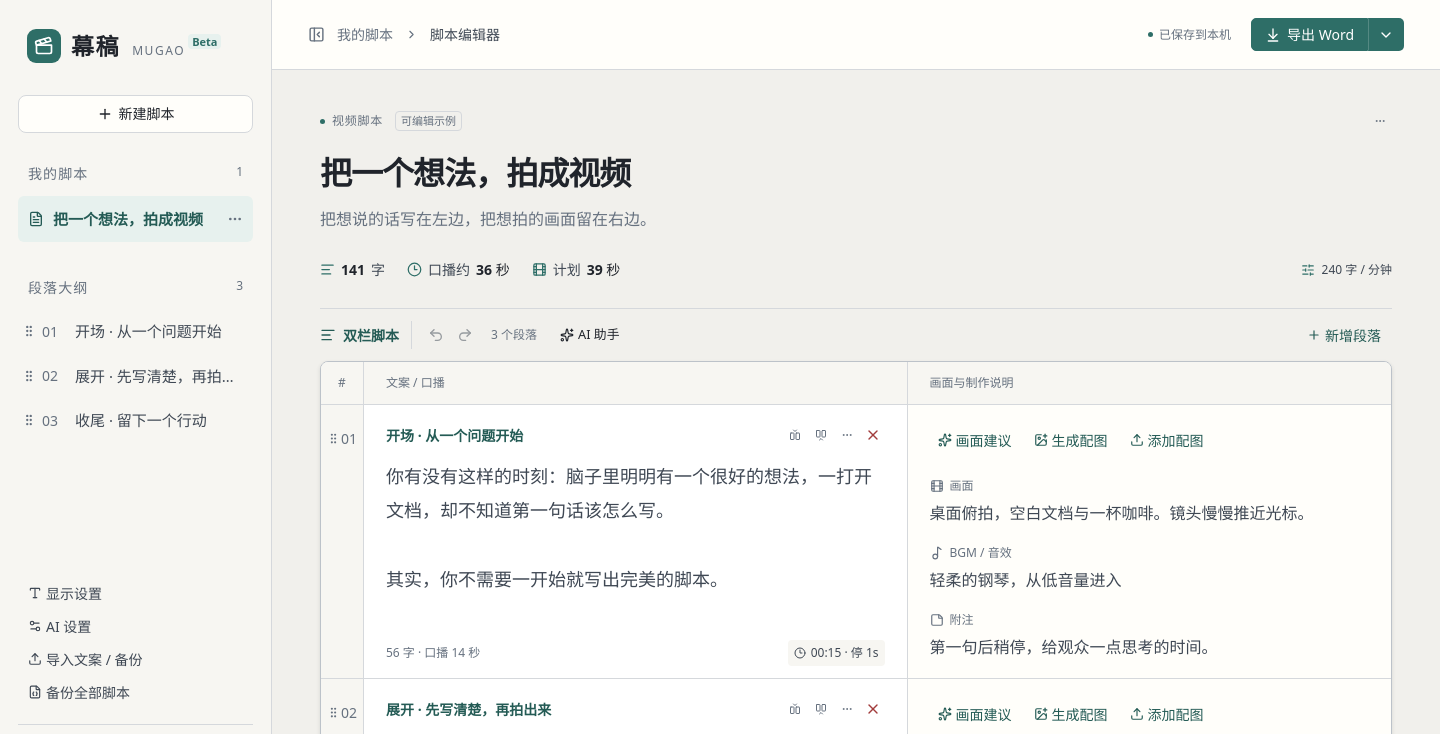
Scenario: 编辑器实际组件流程（非浏览器视觉测试） › 新建、中文输入法组合、光标分段与撤销可组合使用
Expected: the button with class "save-status" reads "已保存到本机", [1148,18,1231,51]
Click the button "新建脚本" at (136, 114), box [18,94,253,132]
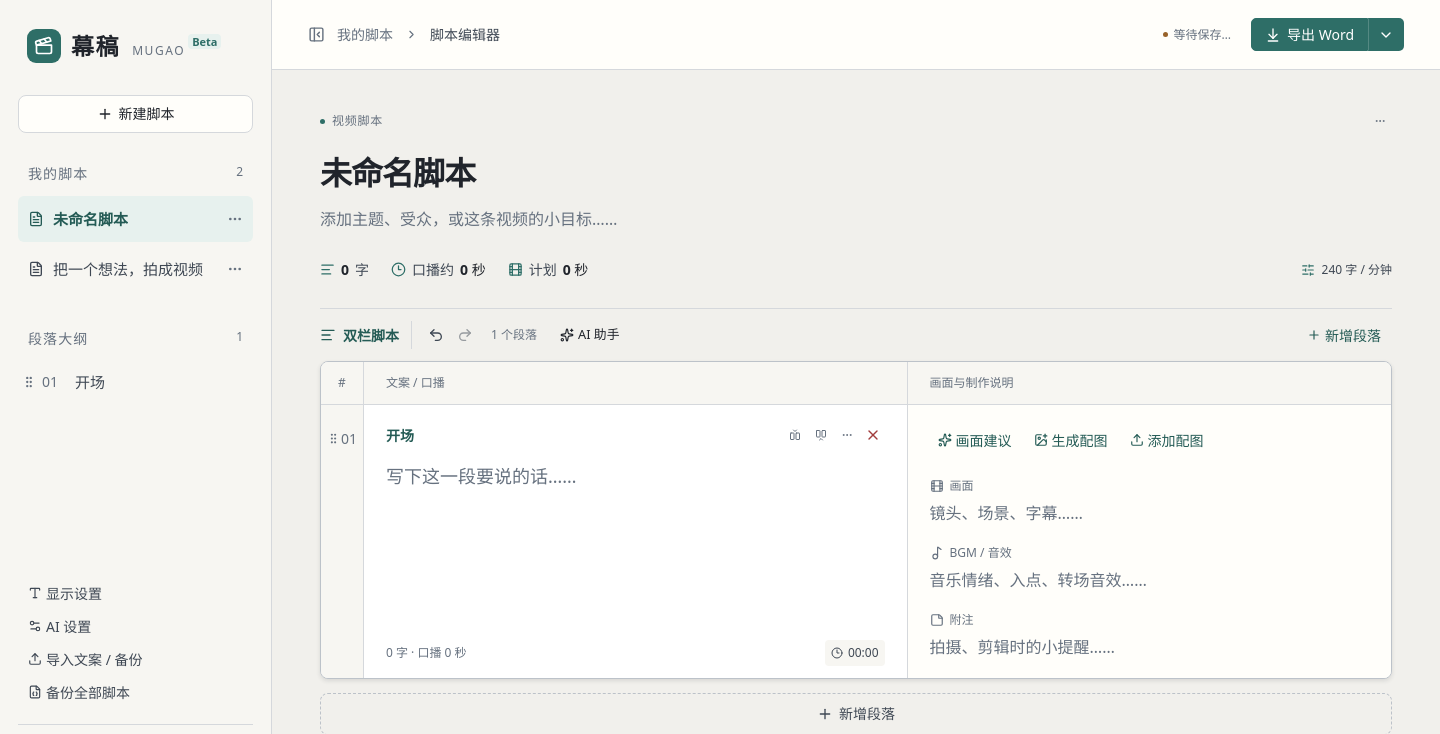
Type "你好世界" into the text box named "第1段文案" at (635, 542), box [386,459,885,626]
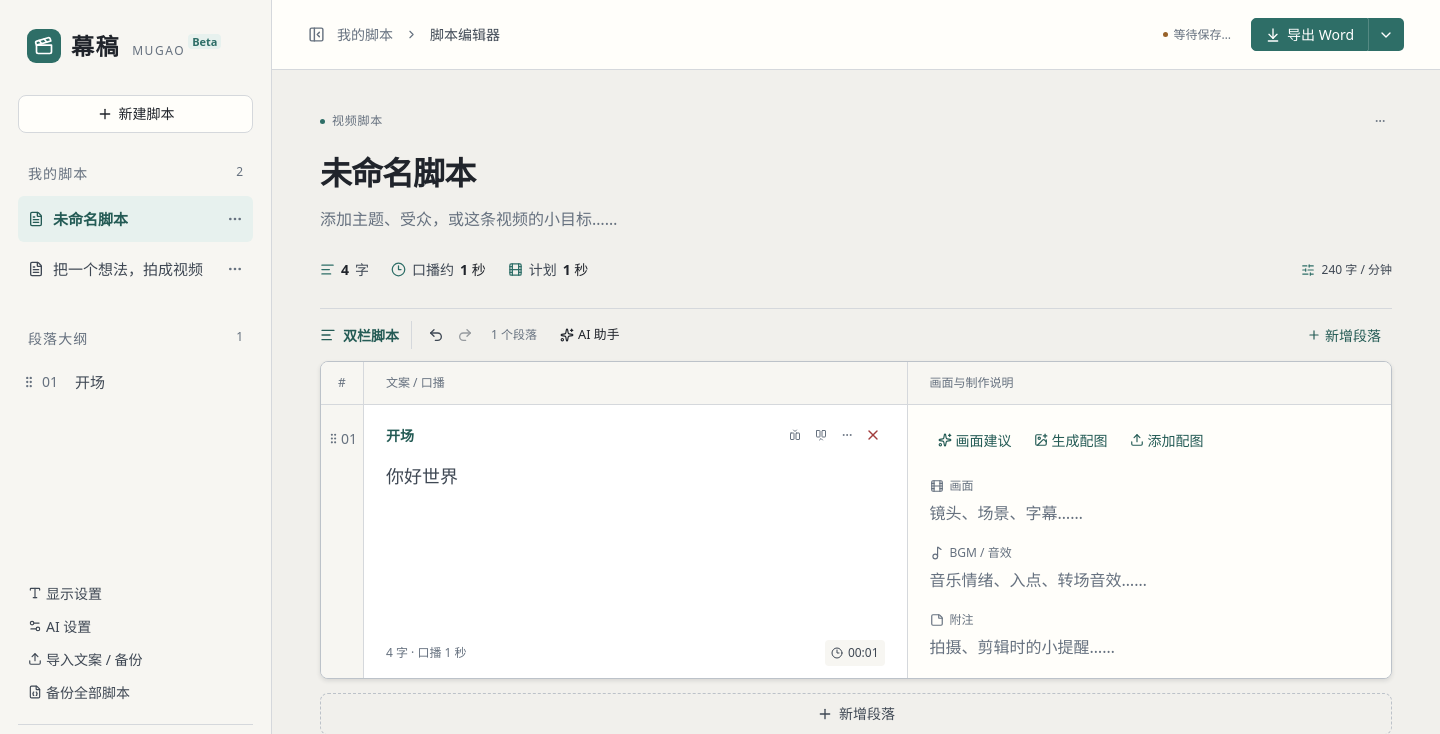
Press z in the text box named "第1段文案", box [386,459,885,626]
Press Enter in the text box named "第1段文案", box [386,459,885,626]
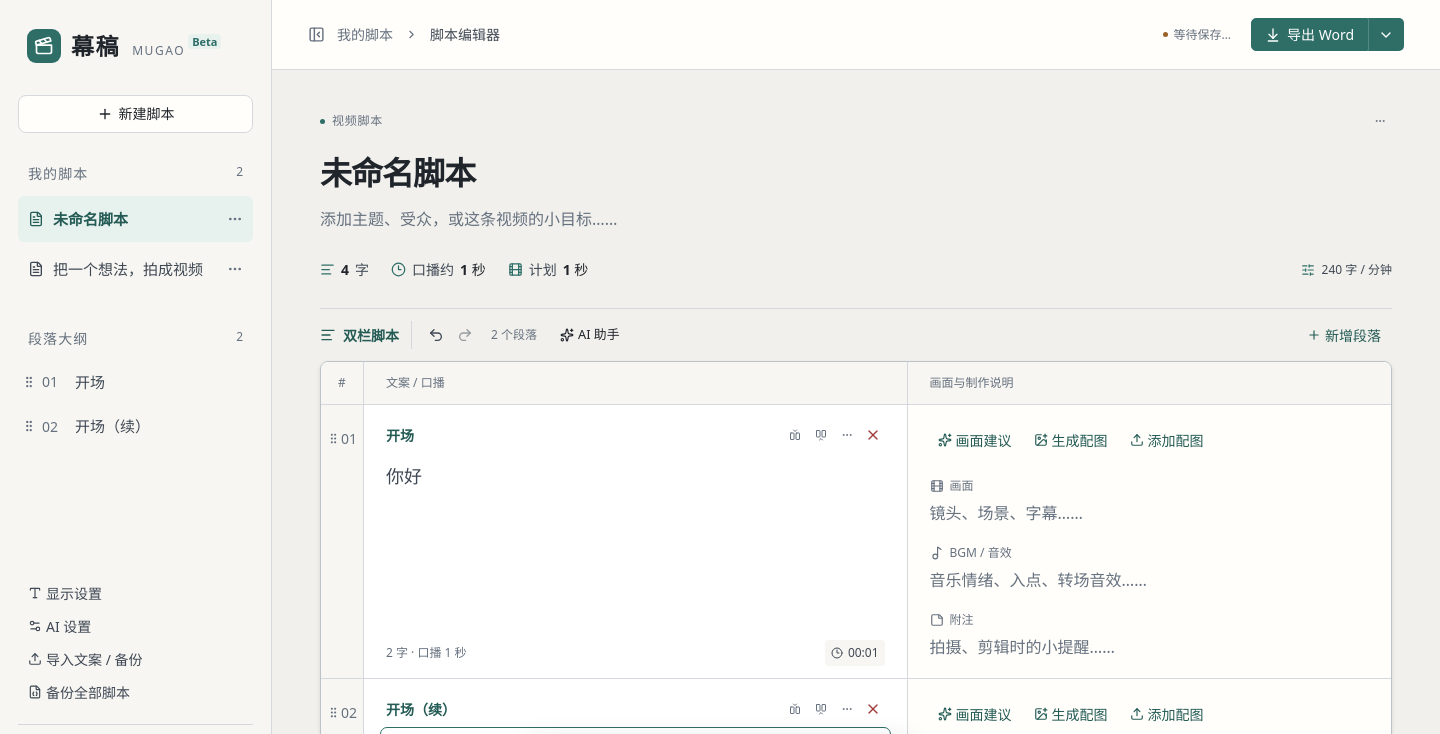
Expected: the text box named "第1段文案" holds "你好", [386,459,885,626]
Click the button named "撤销" at (436, 335), box [422,321,450,349]
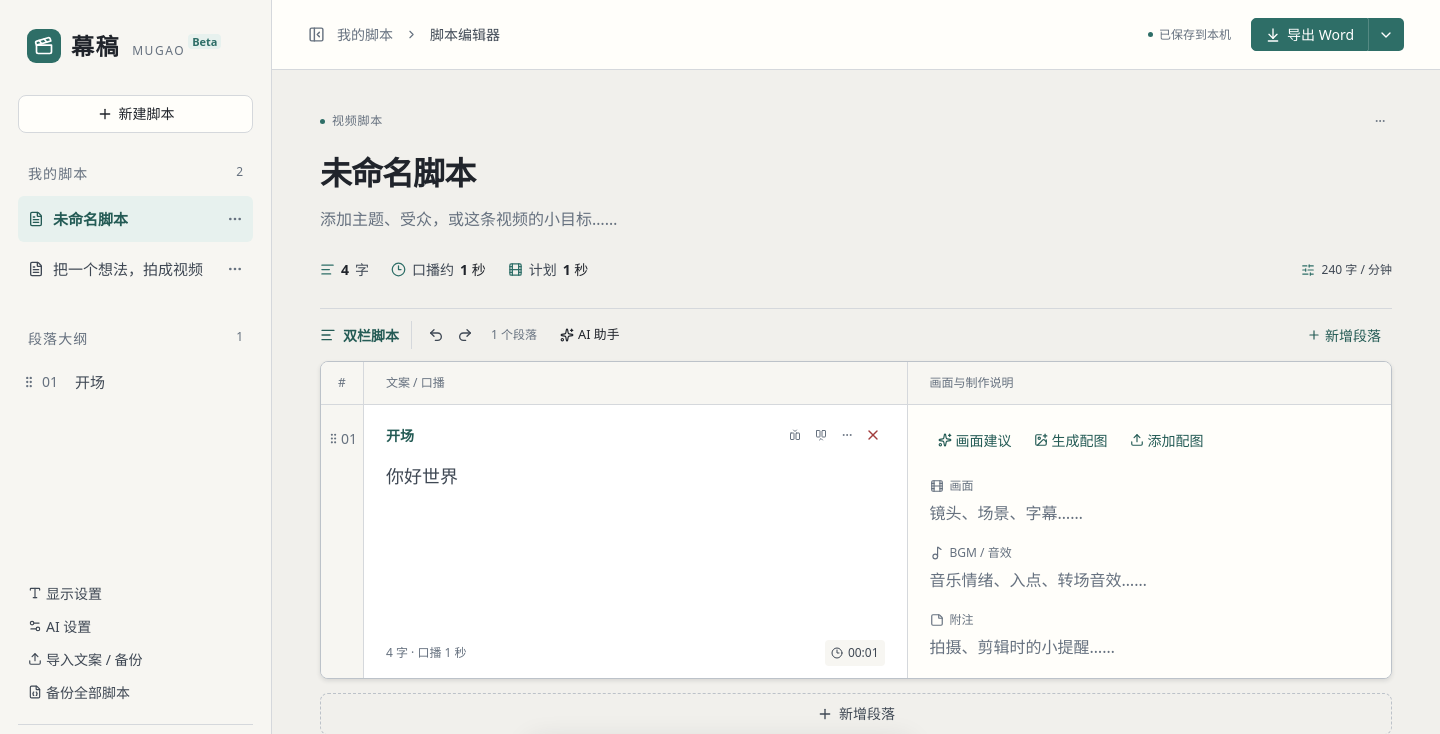
Expected: the button with class "save-status" reads "已保存到本机", [1148,18,1231,51]
